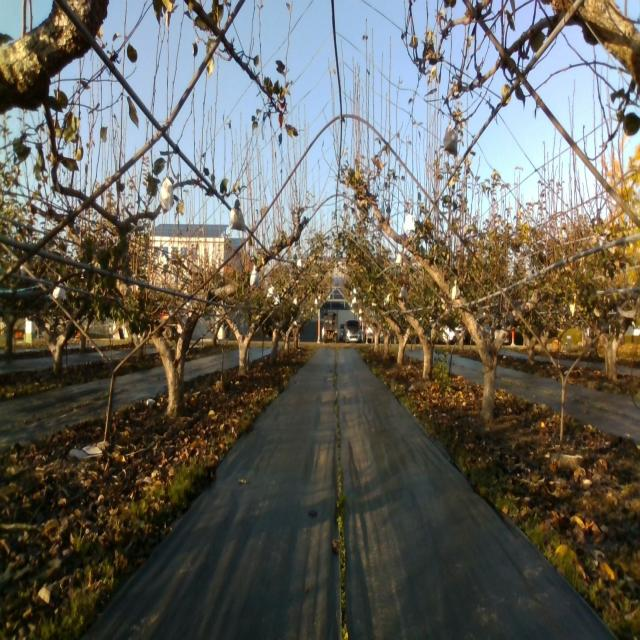pearbags: (229, 199, 245, 231), (443, 124, 458, 155), (160, 178, 173, 213)
